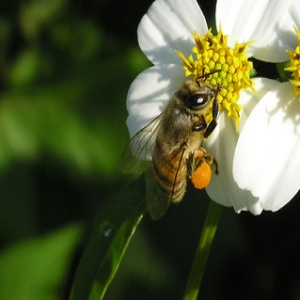bee: (118, 72, 239, 223)
